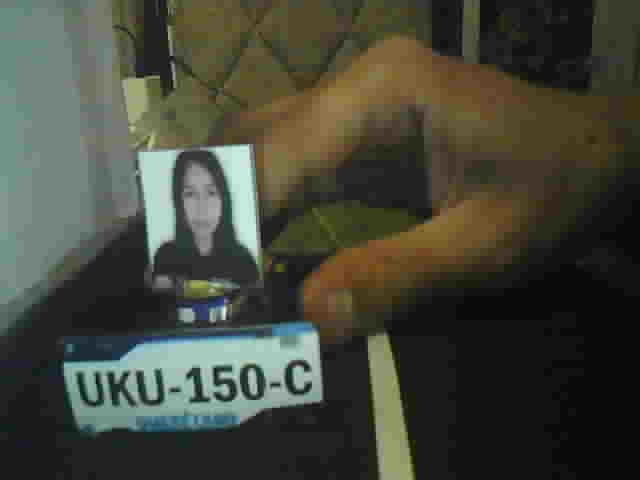PLACA: (59, 317, 326, 443)
ROSTRO: (147, 152, 262, 283)
